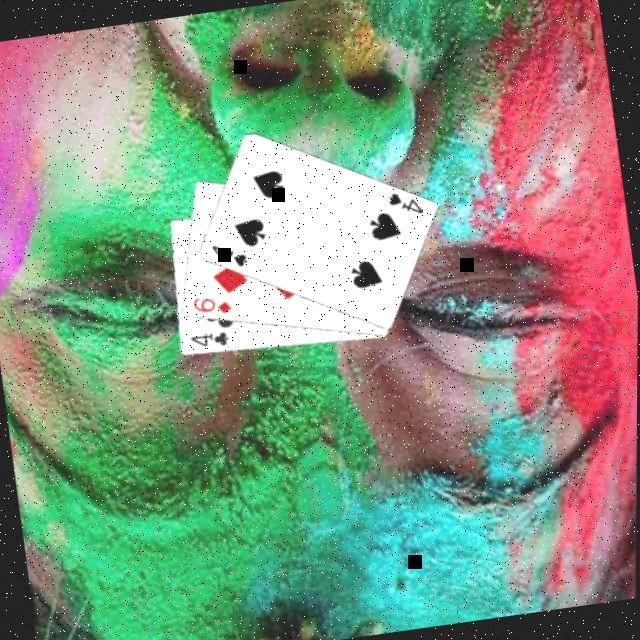4C: (189, 329, 235, 355)
4S: (209, 239, 253, 275), (386, 188, 428, 223)
6D: (191, 291, 237, 323)
